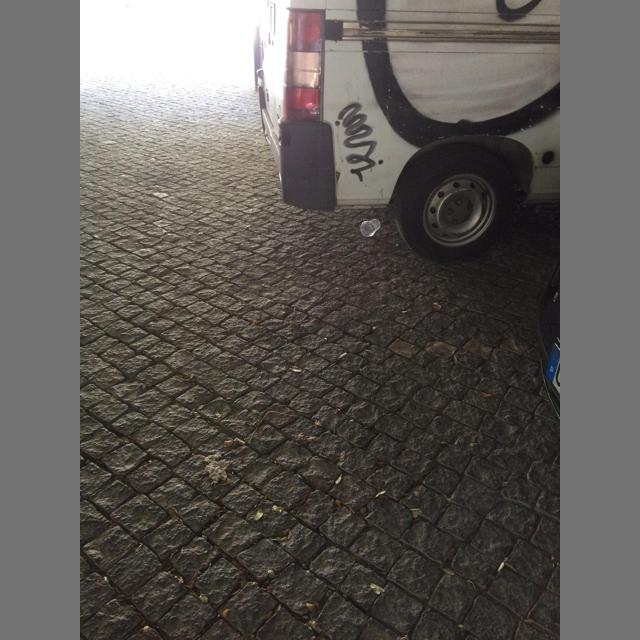litter: (361, 220, 380, 236)
